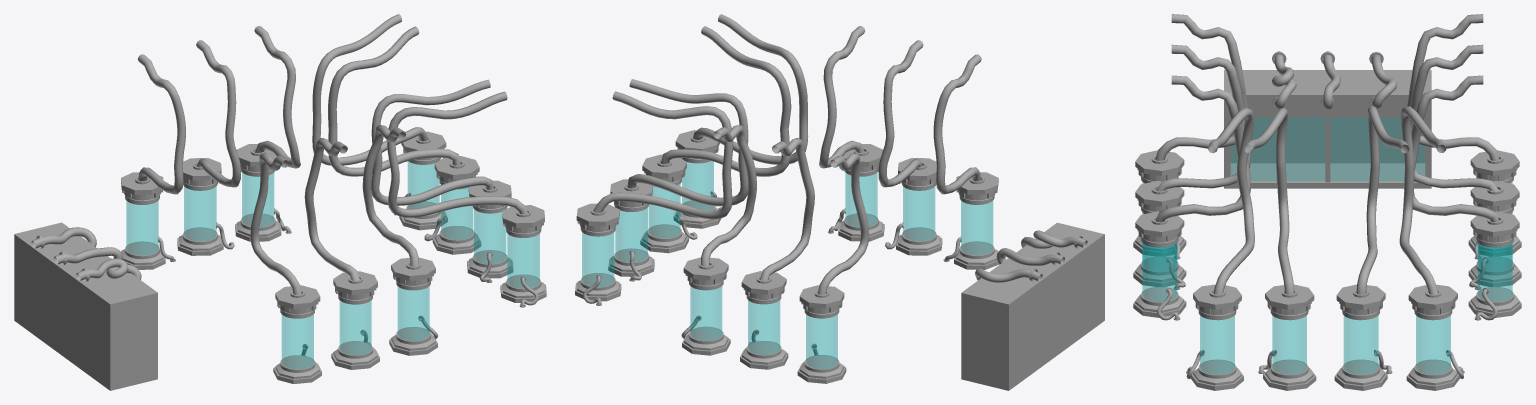
File: Zona05_Incubadoras.fbx
The picture shows the model from 3 angles, left to right: view 1: azimuth 30°, elevation 25°; view 2: azimuth 150°, elevation 25°; view 3: azimuth 270°, elevation 25°; orthographic projection. The views are drawn at different scales.
Parts seen in each view (by area): view 1: Incubadoras; view 2: Incubadoras; view 3: Incubadoras.
Part boxes in pixels (left/top/right/bottom): Incubadoras: left=14, top=14, right=546, bottom=390; Incubadoras: left=575, top=14, right=1104, bottom=390; Incubadoras: left=1133, top=14, right=1521, bottom=390.
Size of the model in its own units: 2271 by 1057 by 1614.
